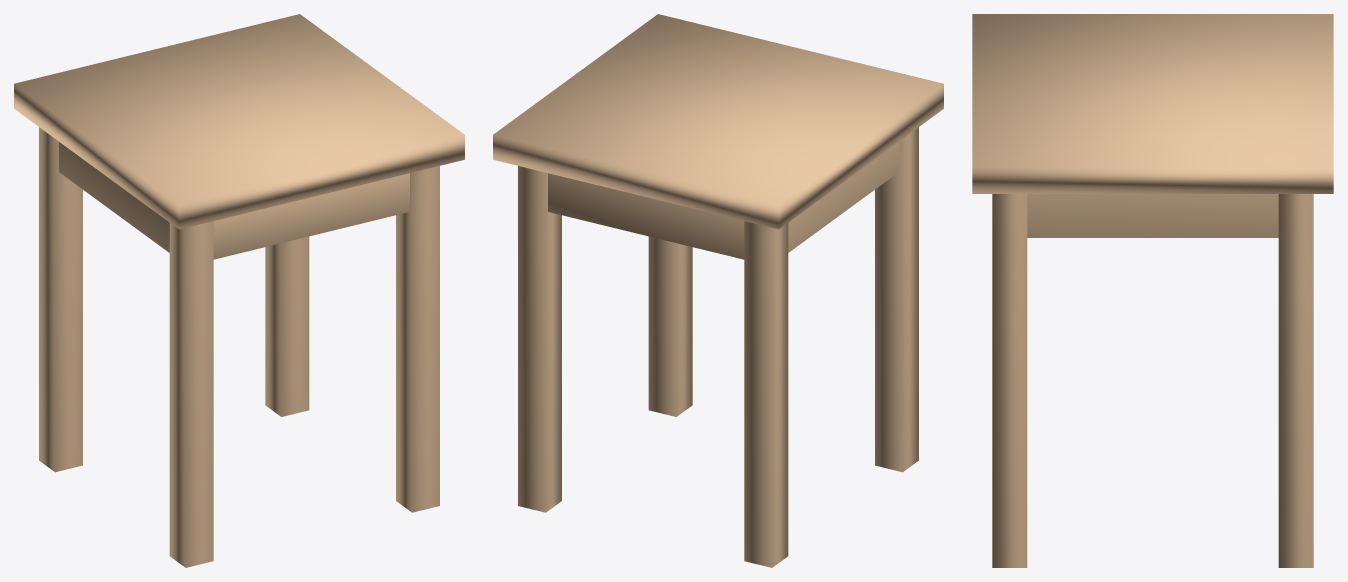
The model's file is 02A_stool.glb.
The picture shows the model from 3 angles, left to right: view 1: azimuth 30°, elevation 25°; view 2: azimuth 150°, elevation 25°; view 3: azimuth 270°, elevation 25°; orthographic projection. The views are drawn at different scales.
Parts seen in each view (by area): view 1: Seat, Leg.001, Leg.003, Leg.002, 幕板.001, Leg, 幕板.002; view 2: Seat, Leg.002, Leg, Leg.001, 幕板, Leg.003, 幕板.002; view 3: Seat, Leg, Leg.003, 幕板.003.
Part boxes in pixels (x1,y1,x2,y2): Seat: [14, 14, 464, 229]; Leg.001: [169, 221, 213, 567]; Leg.003: [396, 166, 439, 512]; Leg.002: [39, 127, 82, 472]; 幕板.001: [213, 173, 409, 259]; Leg: [265, 236, 309, 416]; 幕板.002: [59, 142, 169, 252]; Seat: [493, 14, 943, 229]; Leg.002: [744, 221, 788, 567]; Leg: [518, 166, 561, 512]; Leg.001: [875, 127, 918, 472]; 幕板: [548, 173, 744, 259]; Leg.003: [648, 236, 692, 416]; 幕板.002: [788, 142, 898, 252]; Seat: [972, 14, 1333, 193]; Leg: [1278, 194, 1313, 567]; Leg.003: [992, 194, 1027, 567]; 幕板.003: [1027, 194, 1278, 237].
Size of the model in its own units: 0.36 by 0.45 by 0.36.
